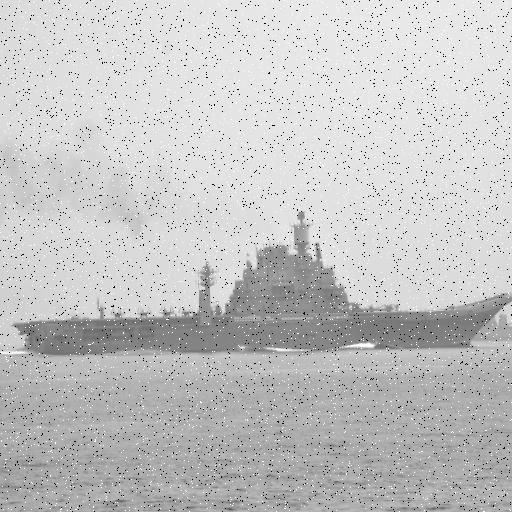Portanaves: (8, 199, 512, 364)
